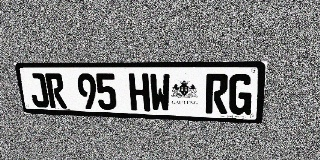5: (95, 73, 117, 110)
9: (76, 73, 98, 109)
G: (228, 74, 253, 115)
H: (128, 73, 150, 111)
J: (27, 73, 50, 108)
R: (205, 74, 229, 114), (44, 73, 67, 108)
W: (149, 73, 171, 112)
